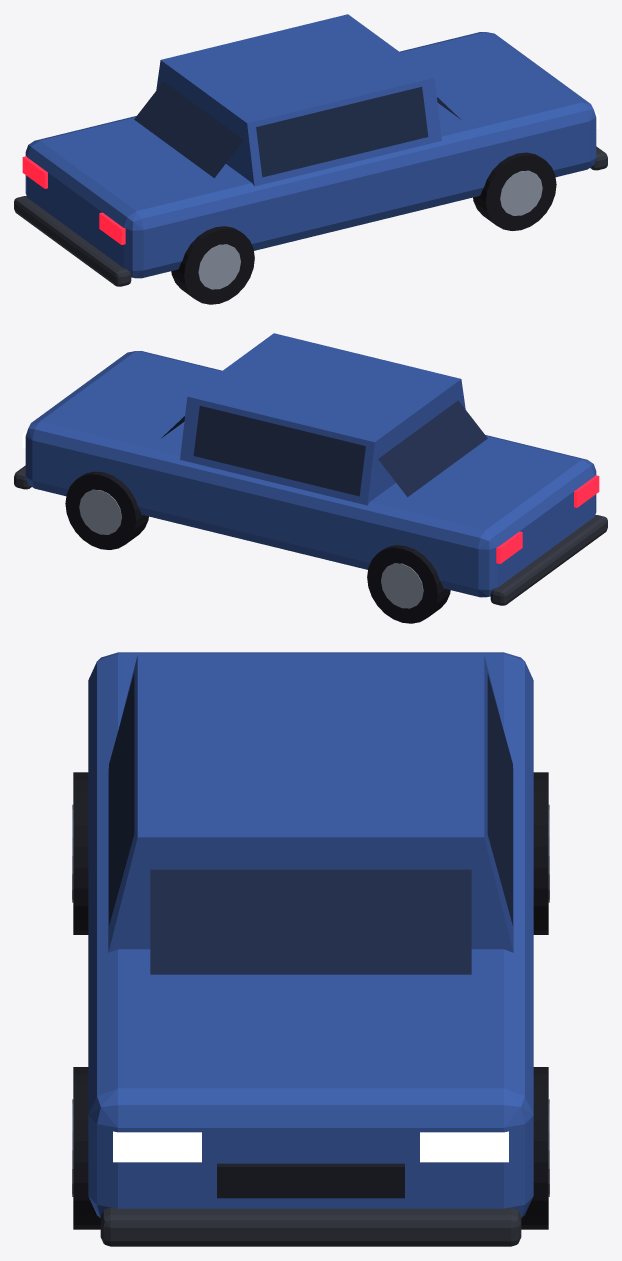
File: sedan.glb
3 views of the same model, one above another, from view 1: azimuth 30°, elevation 25°; view 2: azimuth 150°, elevation 25°; view 3: azimuth 270°, elevation 25° (orthographic). The views are drawn at different scales.
Visible parts, largest first — view 1: sedan; view 2: sedan; view 3: sedan.
Boxes of the visible parts, bbox=[...] form: sedan: bbox=[14, 14, 607, 304]; sedan: bbox=[14, 333, 607, 623]; sedan: bbox=[72, 652, 549, 1246].
Bounding box in the file's own units: 4.6 × 1.41 × 1.93.
